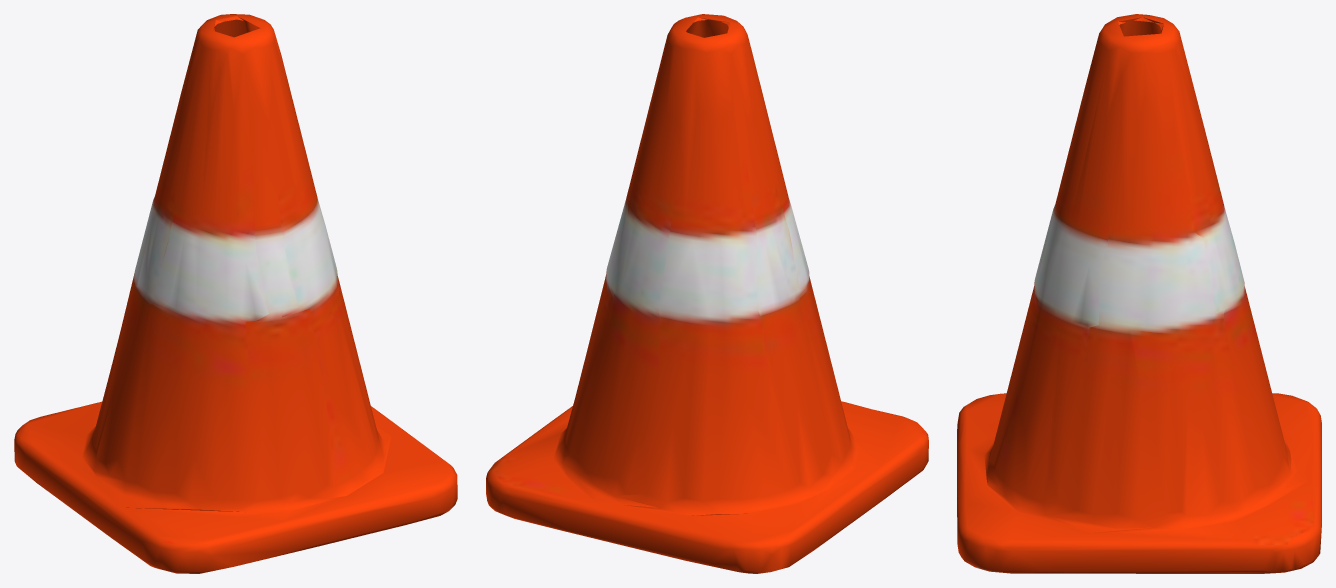
3 views of the same model, side by side, from view 1: azimuth 30°, elevation 25°; view 2: azimuth 150°, elevation 25°; view 3: azimuth 270°, elevation 25° (orthographic). The views are drawn at different scales.
Visible parts, largest first — view 1: cone; view 2: cone; view 3: cone.
Boxes of the visible parts, x1,y1,x2,y2 form: cone: [14, 14, 457, 573]; cone: [486, 14, 928, 573]; cone: [957, 14, 1321, 573].
Size of the model in its own units: 0.4912 by 0.7 by 0.4912.
1 material, 1 textured.
